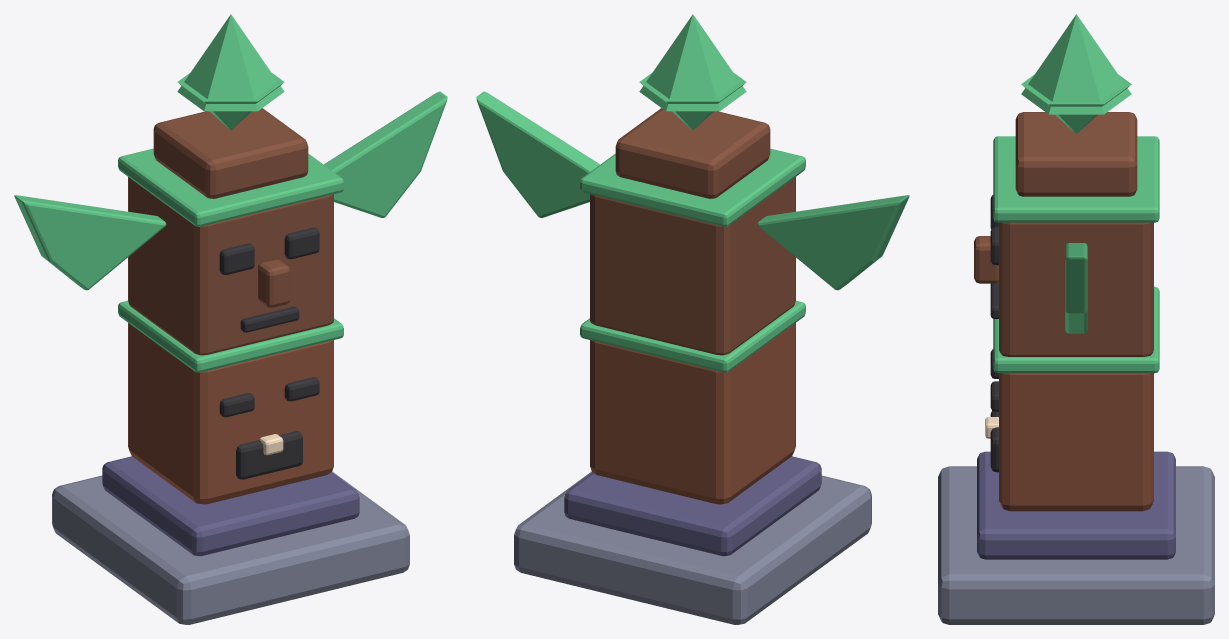
Rendered from totem.glb.
3 renders of one model, left to right at view 1: azimuth 30°, elevation 25°; view 2: azimuth 150°, elevation 25°; view 3: azimuth 270°, elevation 25°, orthographic. The views are drawn at different scales.
Parts seen in each view (by area): view 1: totem, gem; view 2: totem, gem; view 3: totem, gem.
Part boxes in pixels (x1,y1,x2,y2): totem: (14, 91, 447, 624); gem: (177, 14, 284, 130); totem: (476, 91, 909, 624); gem: (639, 14, 746, 130); totem: (938, 112, 1214, 624); gem: (1021, 14, 1131, 133).
Size of the model in its own units: 0.9166 by 1.11 by 0.5.
Materials: 1 (1 with a texture image).
